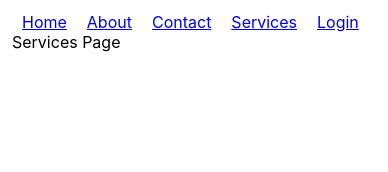
Test case: Testing routing Application › App component should › login link
The width and height of the screenshot is (388, 172).
Click the link "Login": [338, 22] box x1=317 y1=12 x2=359 y2=32
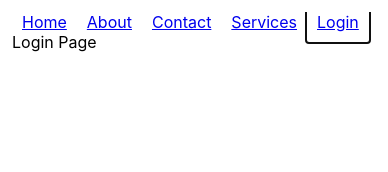
Expected: the text "Login Page" is shown, x1=12 y1=32 x2=97 y2=52
